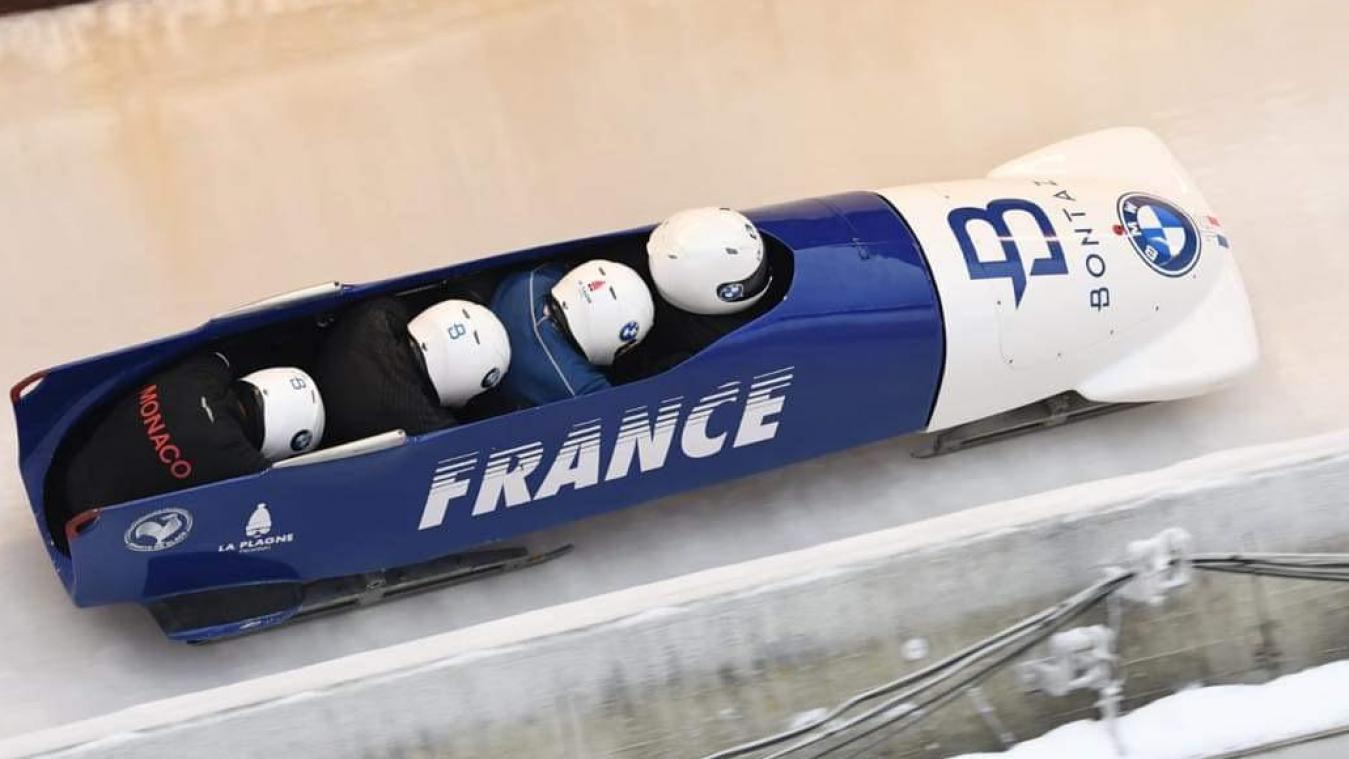Bobsleigh: (16, 124, 1256, 651)
